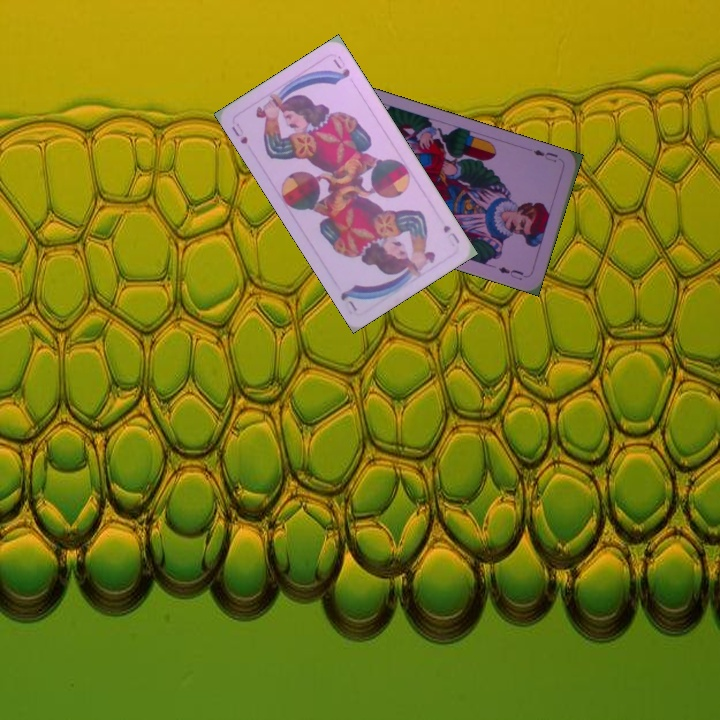EU: (529, 145, 560, 165)
SU: (227, 118, 250, 147), (439, 221, 462, 246)
